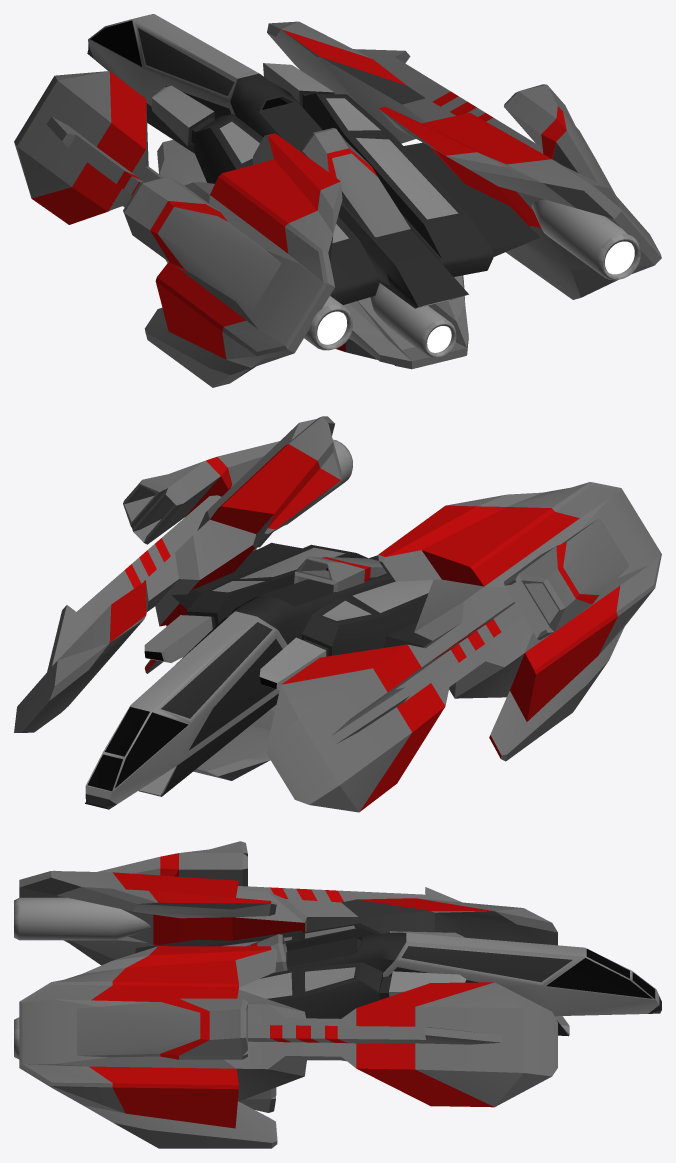
The model's file is hurricane_triplestar__low_poly.glb.
3 renders of one model, top to bottom at view 1: azimuth 30°, elevation 25°; view 2: azimuth 150°, elevation 25°; view 3: azimuth 270°, elevation 25°, orthographic. The views are drawn at different scales.
Parts seen in each view (by area): view 1: base; view 2: base; view 3: base.
Boxes of the visible parts, bbox=[...] form: base: bbox=[14, 14, 661, 387]; base: bbox=[14, 416, 661, 812]; base: bbox=[14, 841, 661, 1148].
Size of the model in its own units: 0.8953 by 0.4204 by 1.34.
